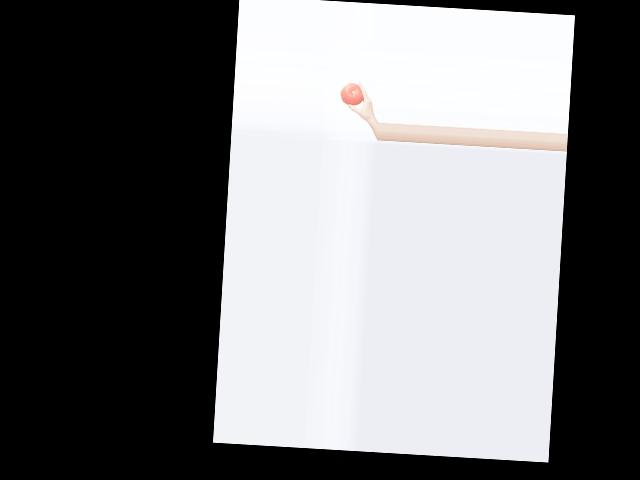tomato: (340, 81, 363, 105)
